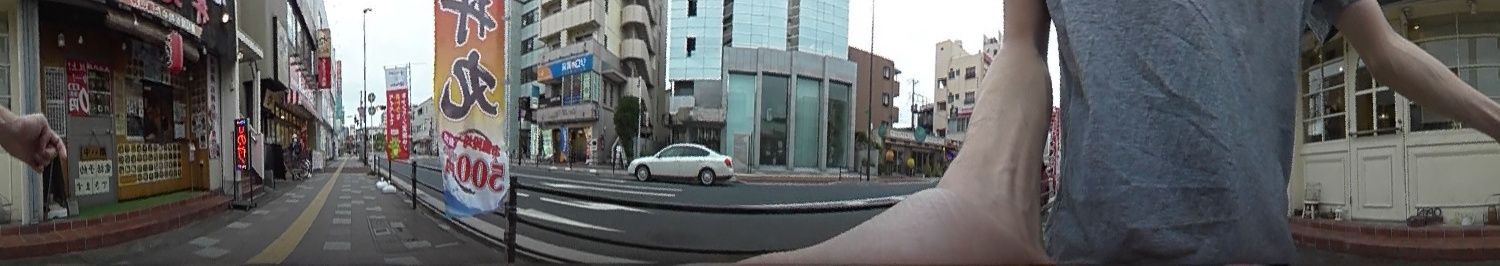difficult_person: (288, 131, 303, 168)
